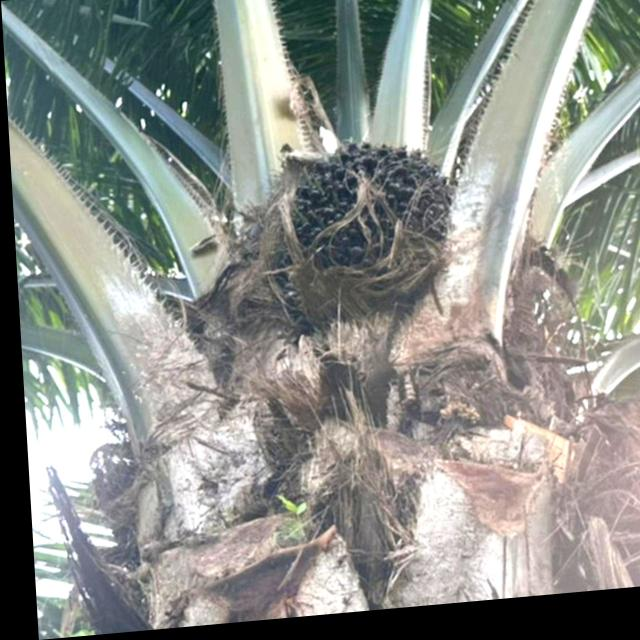unripe: (259, 133, 464, 323)
